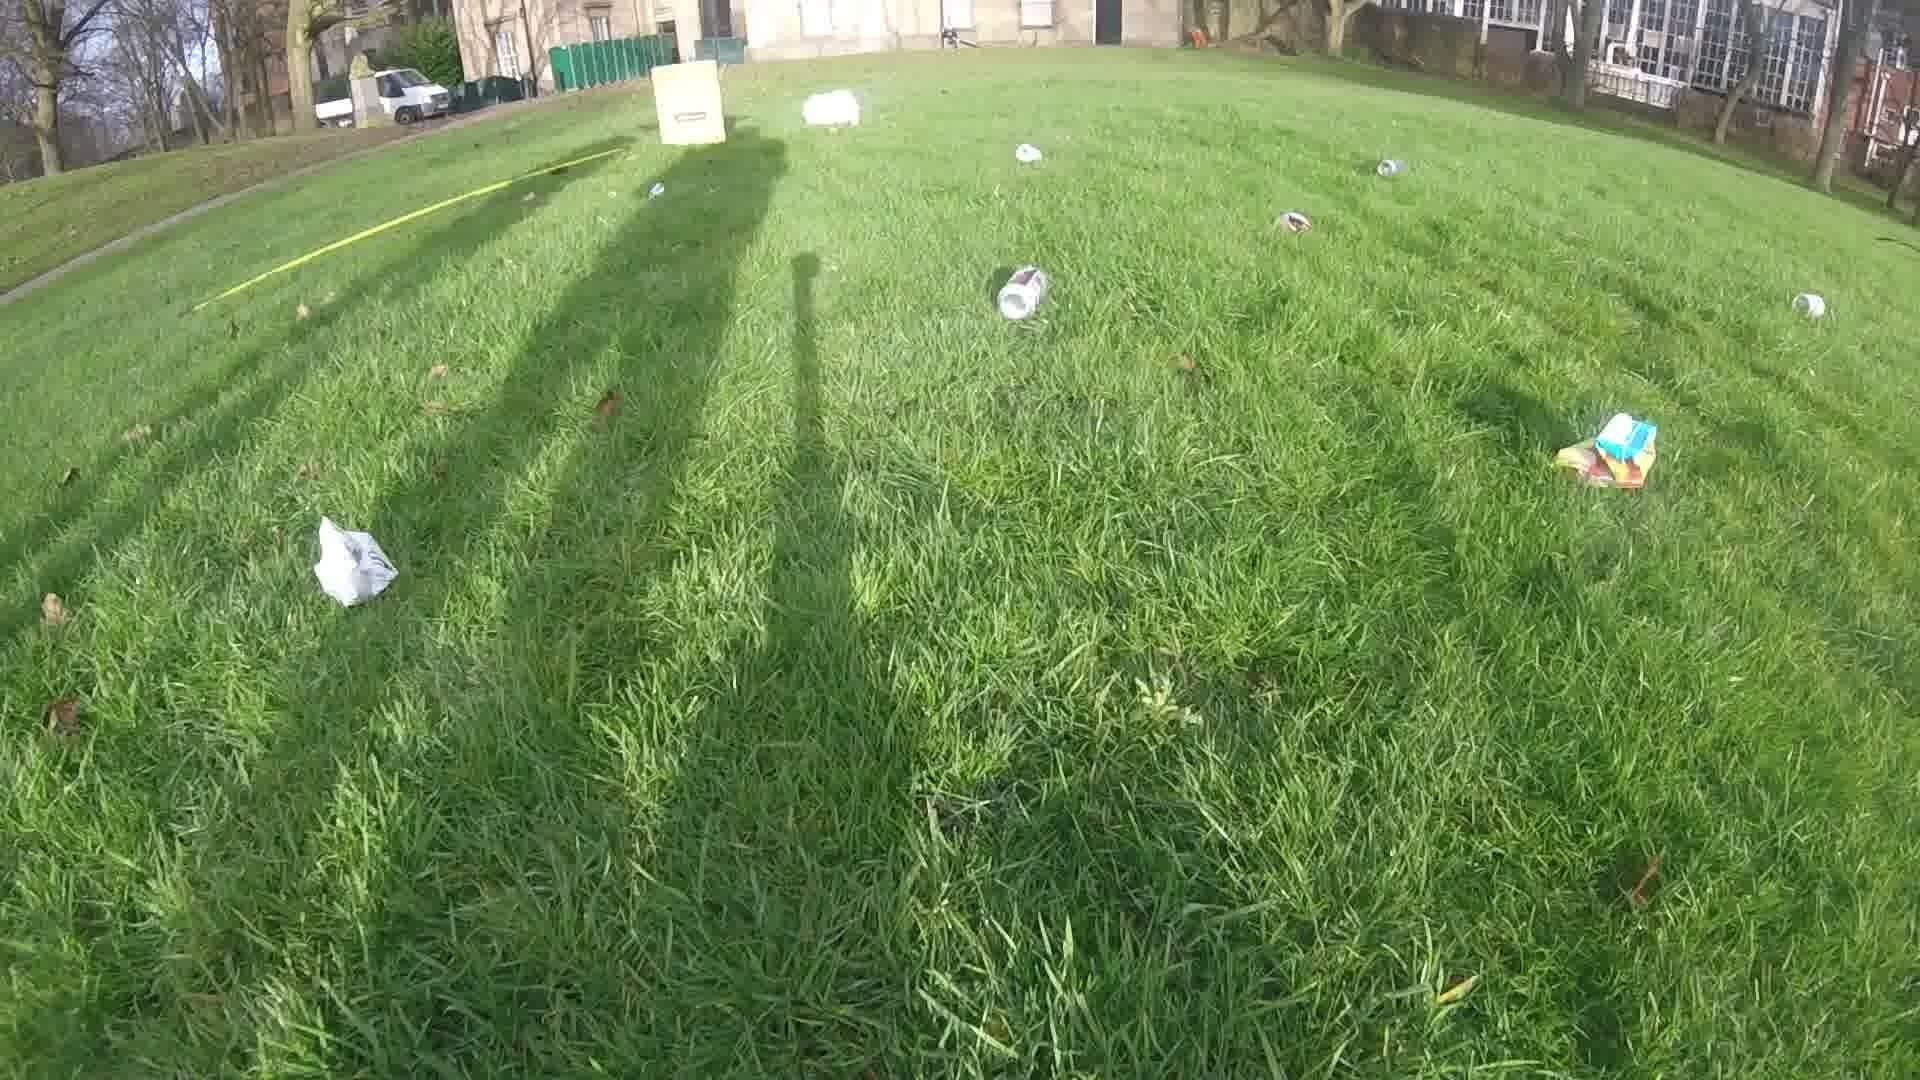litter: (1557, 407, 1656, 495), (313, 514, 396, 603), (651, 61, 727, 146), (998, 266, 1048, 320), (803, 88, 858, 128), (1792, 293, 1830, 318), (1271, 211, 1308, 233), (1374, 161, 1399, 179), (1015, 146, 1044, 162), (647, 178, 665, 202)
